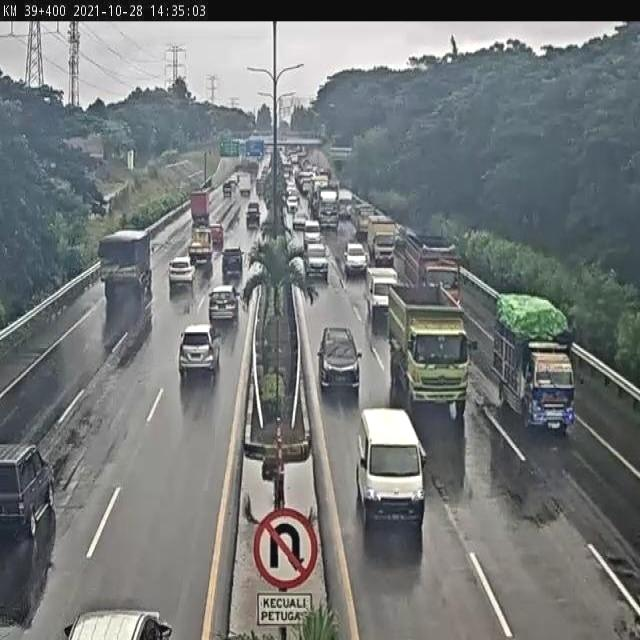Bus: (389, 233, 472, 308)
Car: (0, 441, 59, 536), (309, 318, 362, 394), (172, 315, 220, 388), (205, 279, 244, 324), (219, 242, 254, 280), (165, 250, 198, 288), (302, 247, 330, 281), (341, 244, 369, 276), (303, 220, 325, 248)
Truck: (476, 282, 591, 436), (389, 282, 473, 411), (96, 227, 156, 302), (363, 213, 401, 265), (186, 190, 214, 233), (188, 225, 217, 263)
Van: (344, 397, 432, 532), (362, 262, 406, 324)
